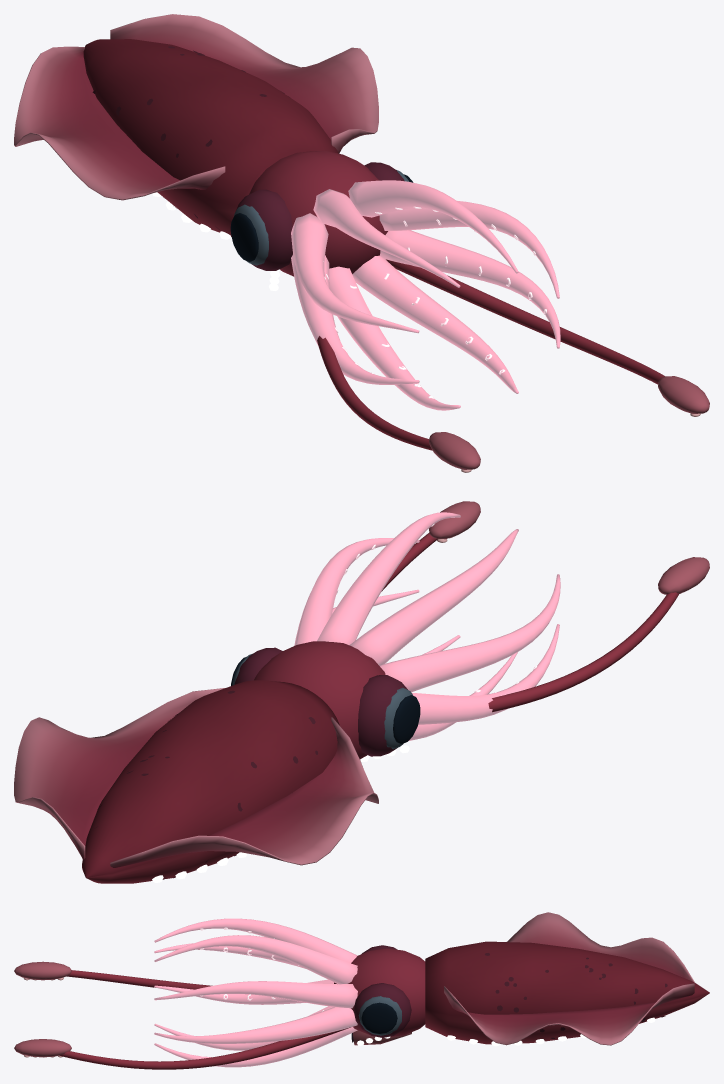
Rendered from calamar-vela.glb.
3 views of the same model, one above another, from view 1: azimuth 30°, elevation 25°; view 2: azimuth 150°, elevation 25°; view 3: azimuth 270°, elevation 25° (orthographic). The views are drawn at different scales.
Visible parts, largest first — view 1: Manto, Vela izquierda, Vela derecha, Cabeza ojos y sifon, Par de brazos 3, Par de brazos 0, Par de brazos 1, Par de brazos 2, Tentaculo 1, Tentaculo -1; view 2: Manto, Vela derecha, Vela izquierda, Cabeza ojos y sifon, Par de brazos 1, Par de brazos 0, Tentaculo -1, Par de brazos 2, Tentaculo 1; view 3: Manto, Cabeza ojos y sifon, Par de brazos 0, Vela derecha, Par de brazos 3, Vela izquierda, Tentaculo 1, Par de brazos 1, Tentaculo -1, Par de brazos 2, Fotoforos ventrales y oculares.
Boxes of the visible parts, x1,y1,x2,y2 form: Manto: [83, 39, 338, 236]; Vela izquierda: [14, 46, 225, 200]; Vela derecha: [110, 14, 378, 153]; Cabeza ojos y sifon: [230, 151, 413, 276]; Par de brazos 3: [352, 230, 560, 393]; Par de brazos 0: [348, 180, 559, 298]; Par de brazos 1: [291, 189, 460, 333]; Par de brazos 2: [291, 254, 460, 410]; Tentaculo 1: [386, 259, 709, 416]; Tentaculo -1: [317, 336, 480, 472]; Manto: [82, 680, 339, 883]; Vela derecha: [14, 688, 224, 859]; Vela izquierda: [110, 717, 378, 867]; Cabeza ojos y sifon: [231, 641, 420, 759]; Par de brazos 1: [349, 529, 560, 692]; Par de brazos 0: [294, 512, 460, 645]; Tentaculo -1: [488, 557, 709, 712]; Par de brazos 2: [409, 624, 559, 740]; Tentaculo 1: [381, 501, 480, 591]; Manto: [425, 941, 709, 1044]; Cabeza ojos y sifon: [334, 945, 425, 1045]; Par de brazos 0: [154, 935, 357, 1008]; Vela derecha: [444, 983, 694, 1045]; Par de brazos 3: [154, 1007, 357, 1067]; Vela izquierda: [507, 912, 694, 982]; Tentaculo 1: [14, 1027, 350, 1069]; Par de brazos 1: [154, 918, 357, 968]; Tentaculo -1: [14, 961, 212, 989]; Par de brazos 2: [154, 979, 333, 1050]; Fotoforos ventrales y oculares: [357, 1017, 655, 1046].
Size of the model in its own units: 1.72 by 0.9269 by 4.55.
